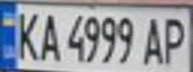4: (60, 10, 84, 63)
9: (115, 12, 139, 65), (81, 11, 103, 63), (100, 12, 118, 64)
A: (139, 12, 169, 66), (33, 8, 63, 62)
K: (9, 7, 42, 62)
P: (157, 12, 193, 66)
